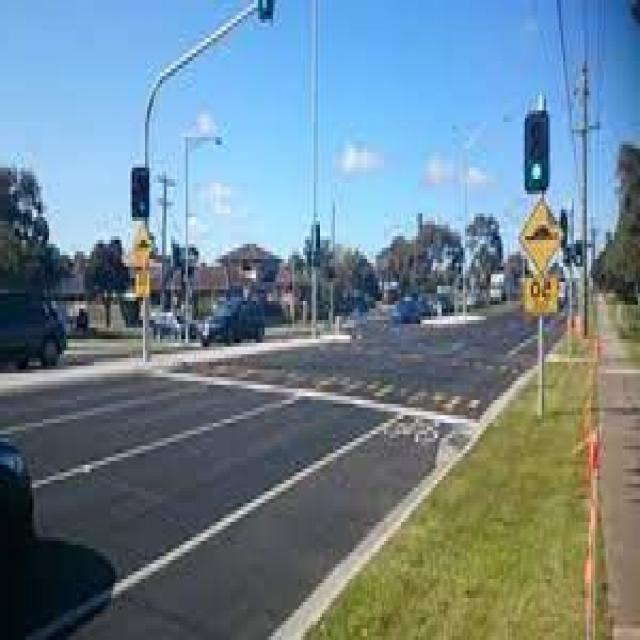speedbreaker: (180, 352, 492, 426), (270, 322, 526, 380)
